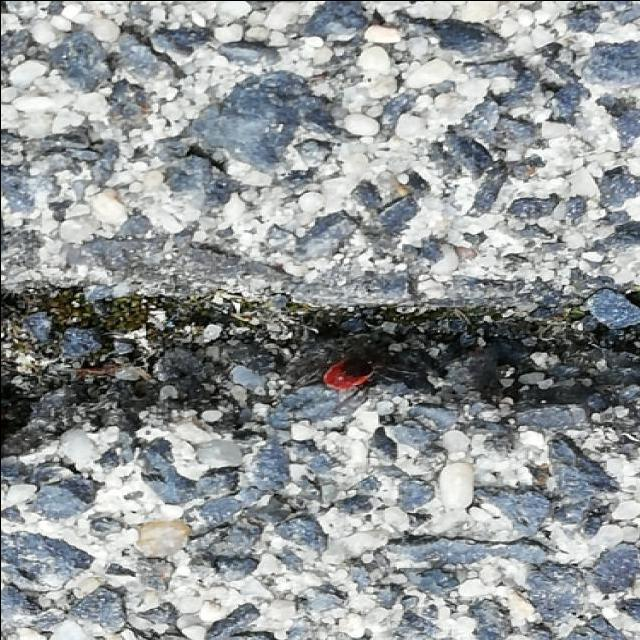Ixodes Ricinus-F: (321, 356, 416, 389)
